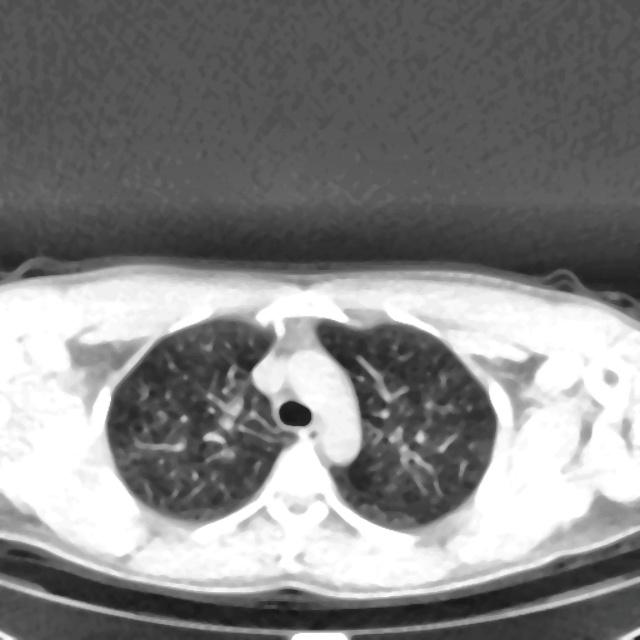covid: (0, 255, 639, 606)
